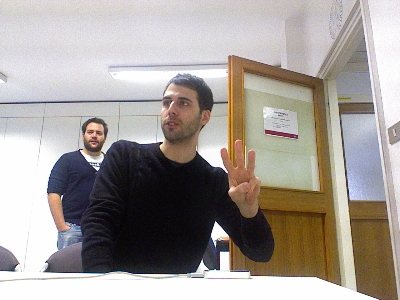三分: (218, 137, 261, 210)
